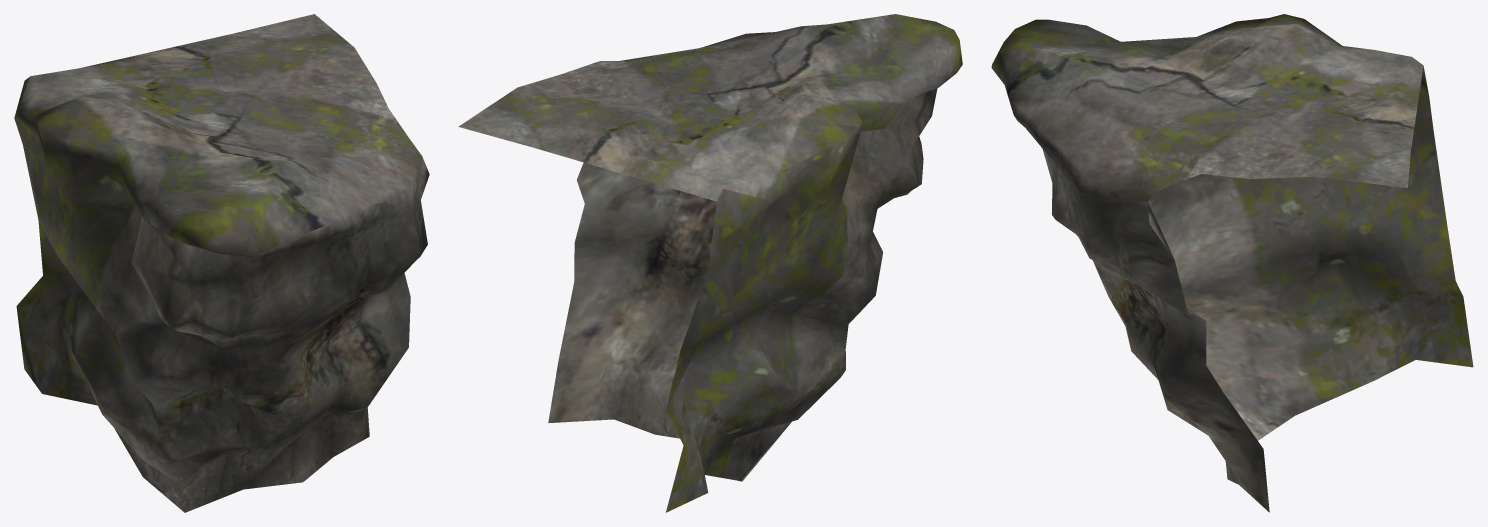
Rendered from Rock18.fbx.
3 renders of one model, left to right at view 1: azimuth 30°, elevation 25°; view 2: azimuth 150°, elevation 25°; view 3: azimuth 270°, elevation 25°, orthographic. The views are drawn at different scales.
Parts seen in each view (by area): view 1: LV_Campagna_MoleCricketsDen_piece2_SM_KSV; view 2: LV_Campagna_MoleCricketsDen_piece2_SM_KSV; view 3: LV_Campagna_MoleCricketsDen_piece2_SM_KSV.
Part boxes in pixels (x1,y1,x2,y2): LV_Campagna_MoleCricketsDen_piece2_SM_KSV: (14, 14, 429, 512); LV_Campagna_MoleCricketsDen_piece2_SM_KSV: (458, 14, 962, 512); LV_Campagna_MoleCricketsDen_piece2_SM_KSV: (991, 14, 1473, 512).
Size of the model in its own units: 2.67 by 3.12 by 3.53.
Materials: 1 (1 with a texture image).
